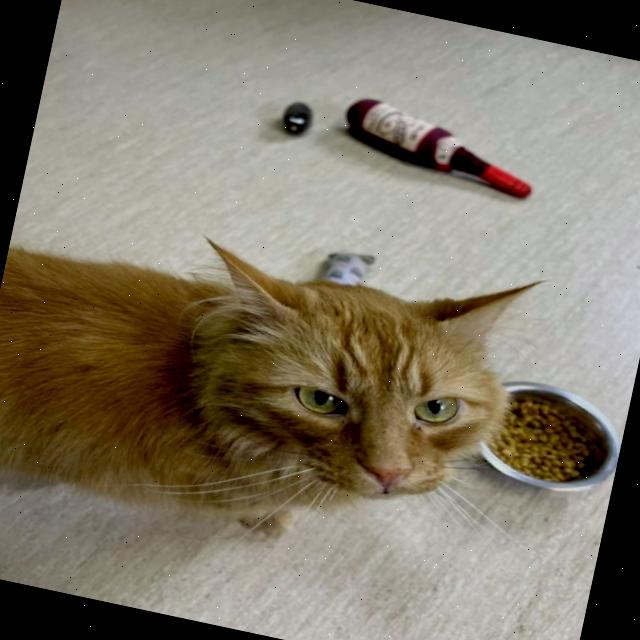domestic_long_hair_cat: (114, 188, 566, 586)
